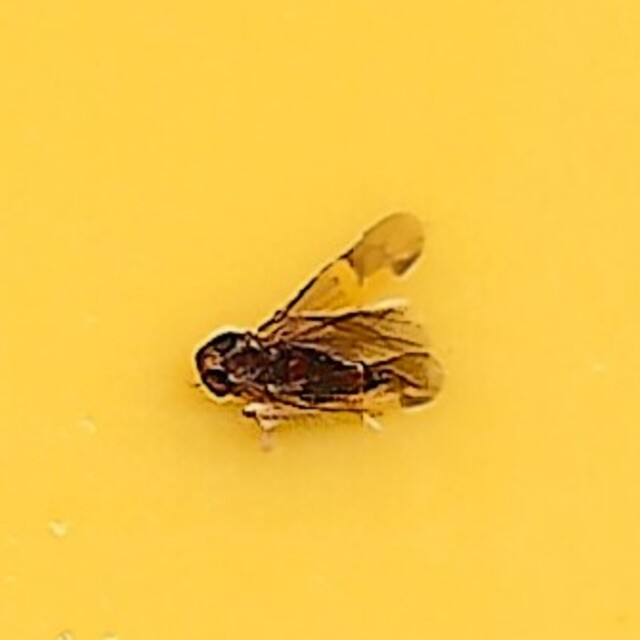Hemiptera: (191, 210, 449, 430)
